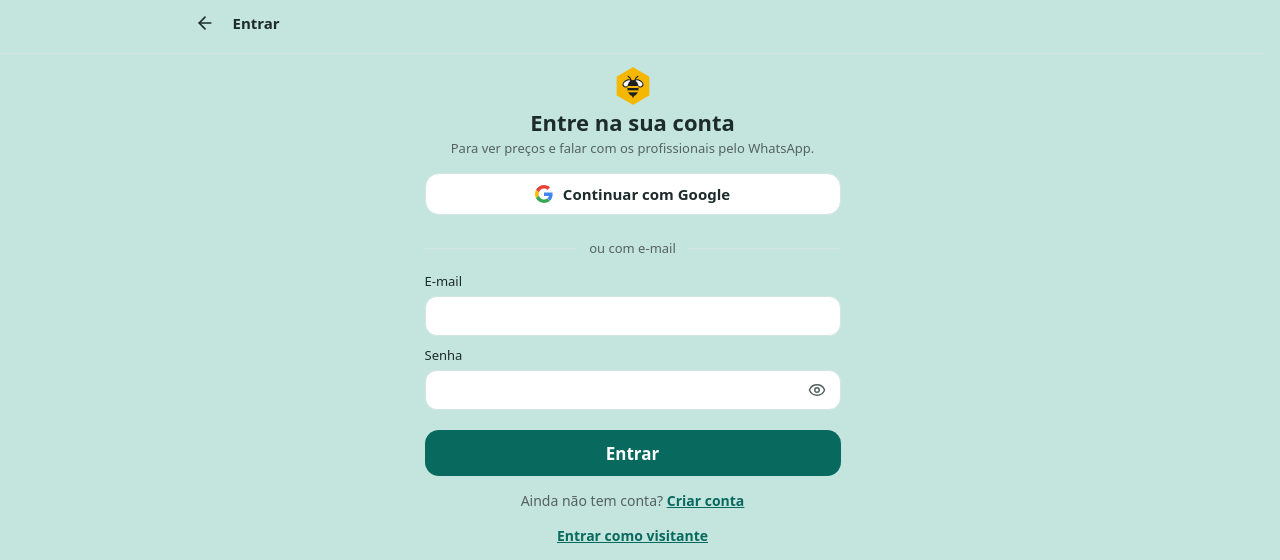
Test: Entrar: mostrar senha › mostra e esconde a senha digitada
The image size is (1280, 560).
Step 1. Type "teste123" into the password field labelled "Senha" → (632, 390), box x1=424 y1=370 x2=840 y2=410
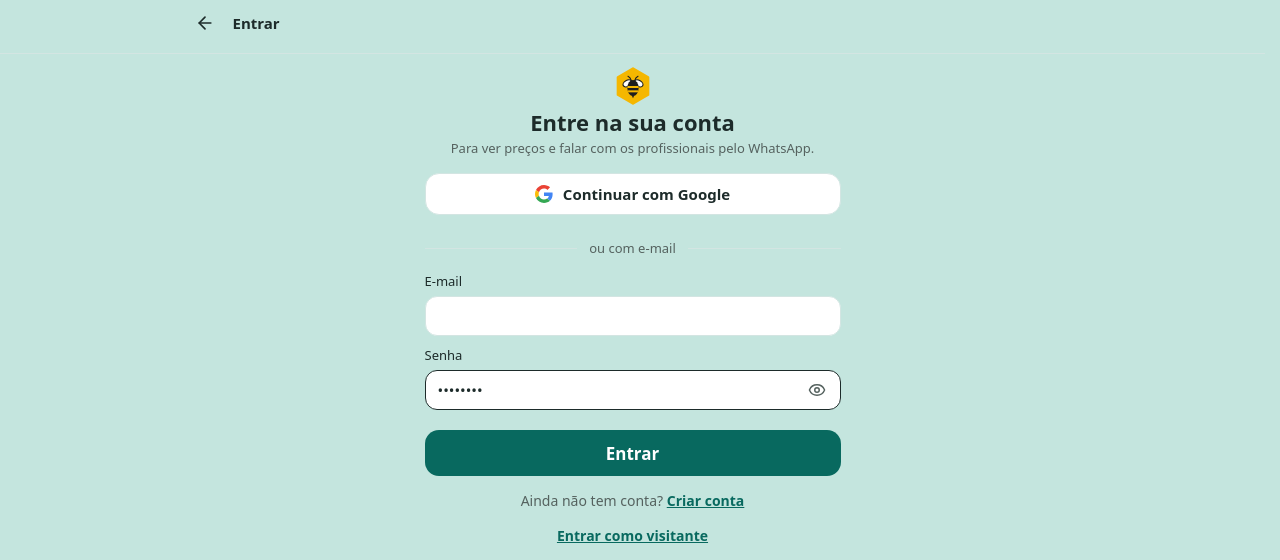
Step 2. Click the button named "Mostrar senha" → (816, 390), box x1=796 y1=370 x2=836 y2=410
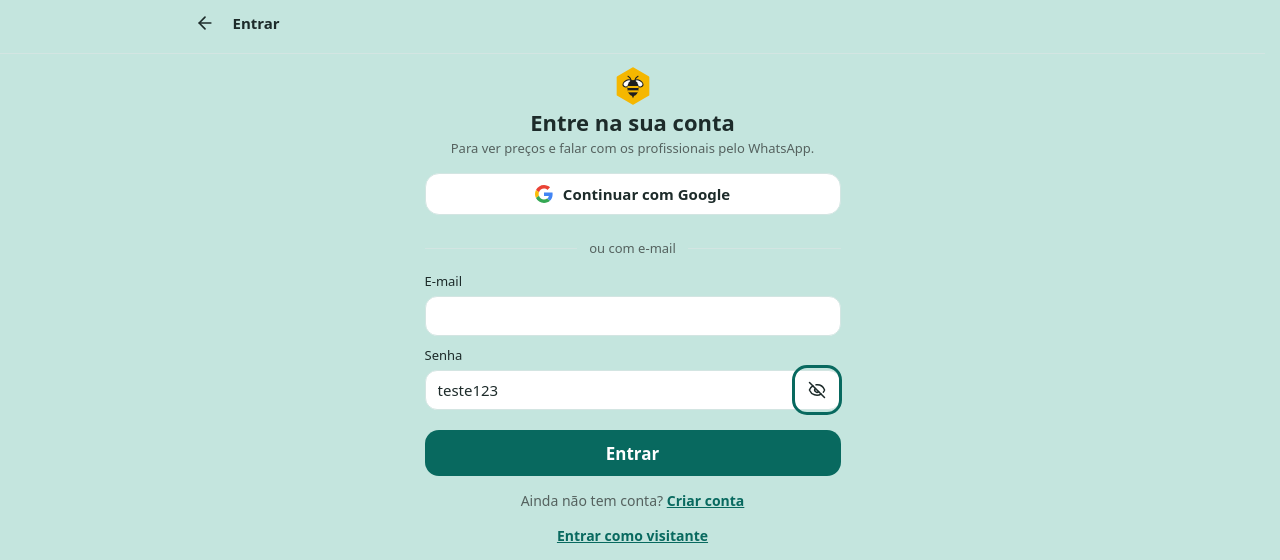
Expected: the field labelled "Senha" shows its text, x1=424 y1=370 x2=840 y2=410
Step 3. Click the button named "Mostrar senha" → (816, 390), box x1=796 y1=370 x2=836 y2=410
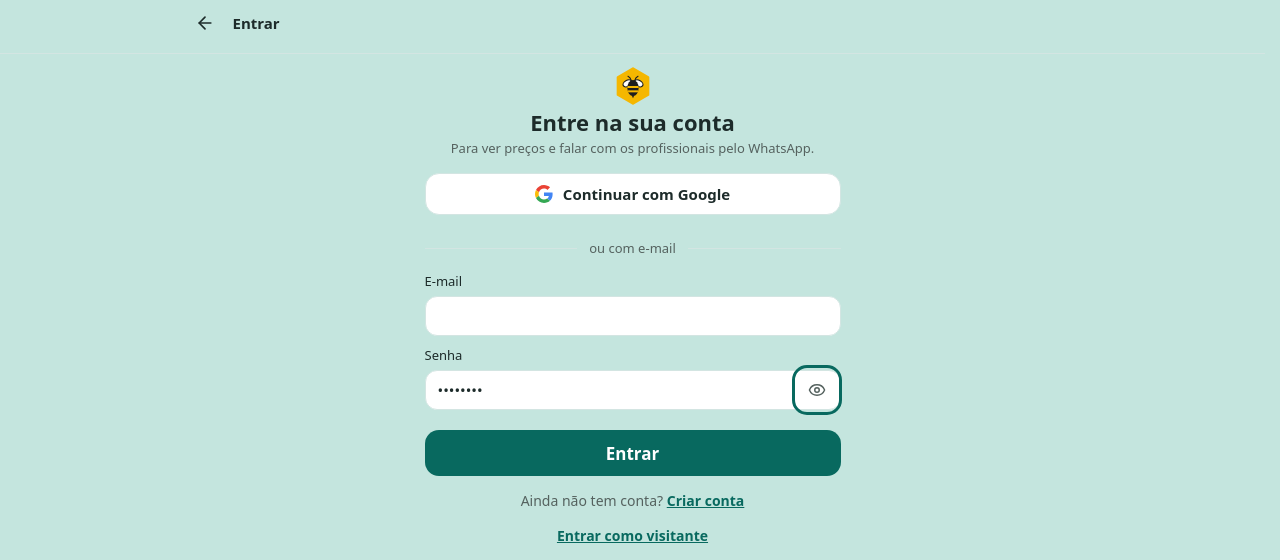
Expected: the password field labelled "Senha" hides its text, x1=424 y1=370 x2=840 y2=410
